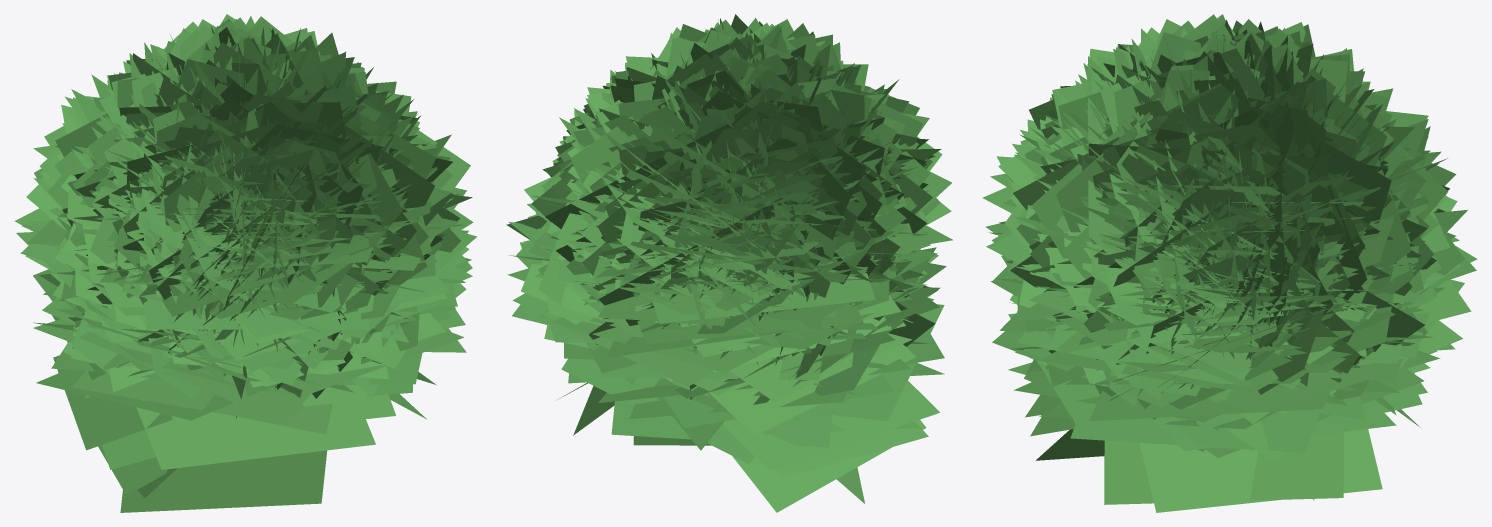
File: tree_broad.glb
3 views of the same model, side by side, from view 1: azimuth 30°, elevation 25°; view 2: azimuth 150°, elevation 25°; view 3: azimuth 270°, elevation 25° (orthographic). The views are drawn at different scales.
Visible parts, largest first — view 1: leaves; view 2: leaves; view 3: leaves.
Boxes of the visible parts, bbox=[...] form: leaves: bbox=[14, 14, 477, 512]; leaves: bbox=[506, 14, 953, 512]; leaves: bbox=[982, 14, 1477, 512].
Size of the model in its own units: 8.79 by 9.32 by 8.67.
